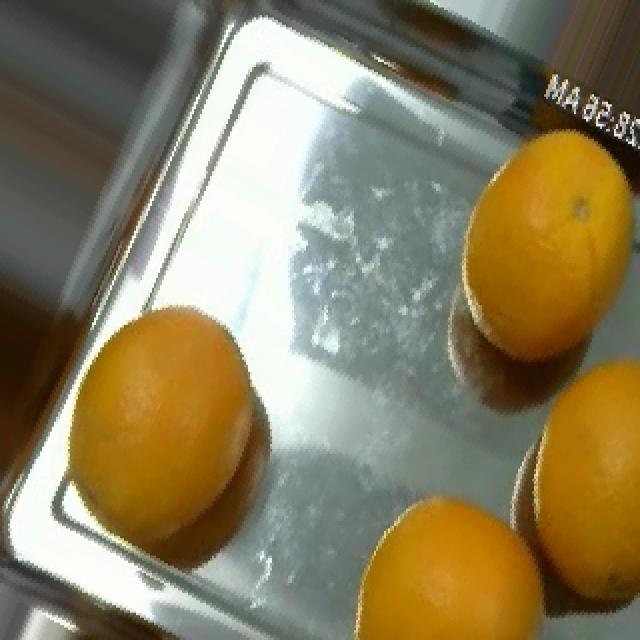Good_Orange: (70, 308, 258, 551), (460, 129, 636, 370), (532, 357, 640, 613)
